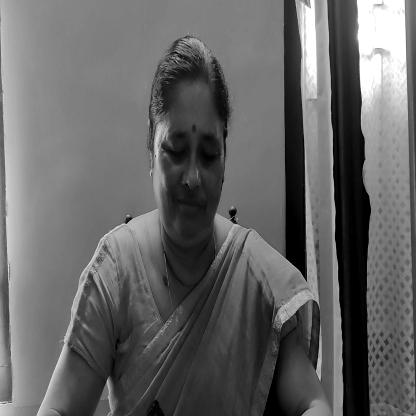Normal: (145, 29, 232, 254)
